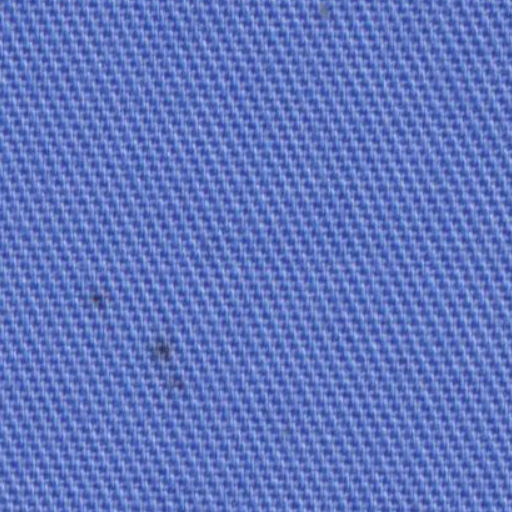WuZi: (140, 323, 204, 402), (69, 280, 124, 326)
